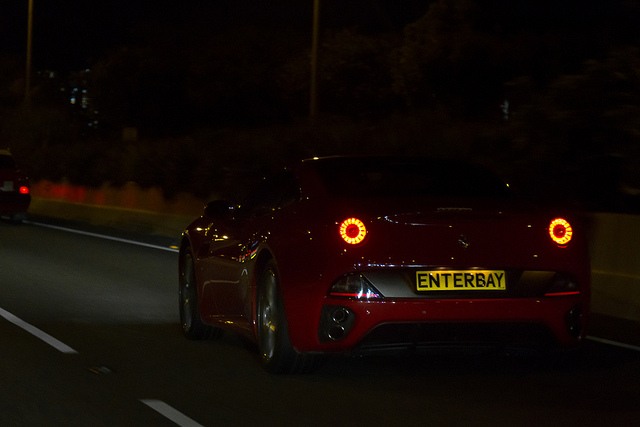car: (176, 141, 597, 373)
